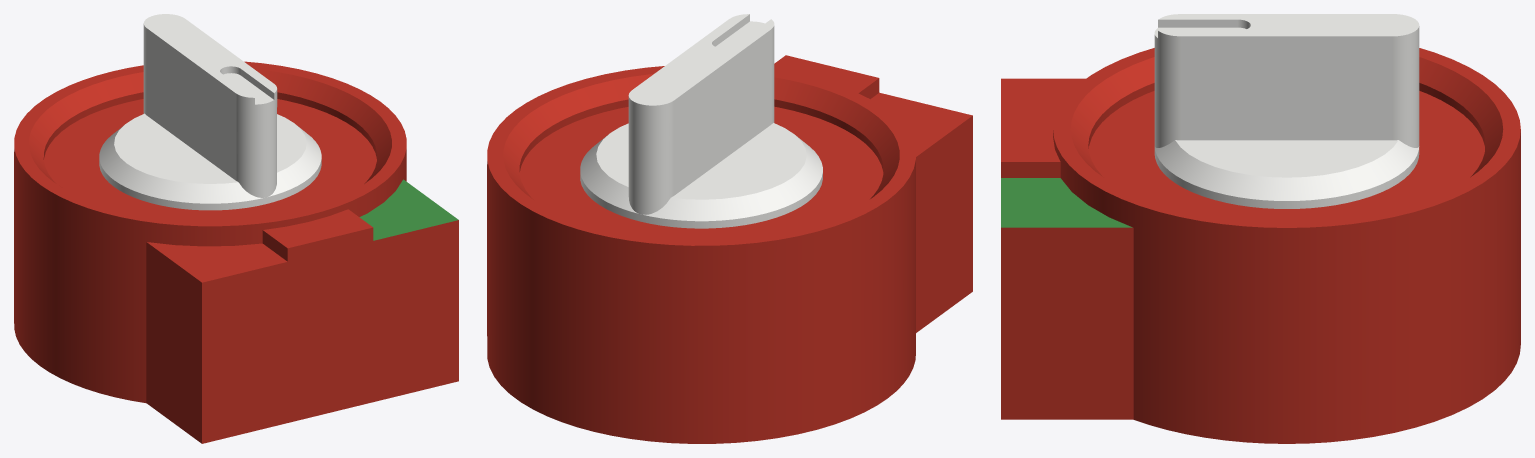
File: rotary-switch.fbx
3 views of the same model, side by side, from view 1: azimuth 30°, elevation 25°; view 2: azimuth 150°, elevation 25°; view 3: azimuth 270°, elevation 25° (orthographic). The views are drawn at different scales.
Visible parts, largest first — view 1: Body1, Body5; view 2: Body1, Body5; view 3: Body1, Body5.
Part boxes in pixels (x1,y1,x2,y2): Body1: [14, 61, 458, 443]; Body5: [99, 14, 321, 210]; Body1: [487, 55, 972, 443]; Body5: [580, 14, 822, 228]; Body1: [1001, 48, 1520, 443]; Body5: [1154, 14, 1419, 208].
Size of the model in its own units: 53 by 40 by 58.89.
